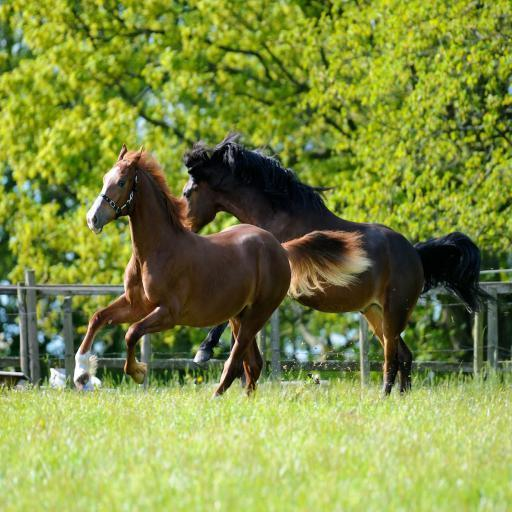horse: (178, 130, 502, 394), (74, 145, 374, 395)
